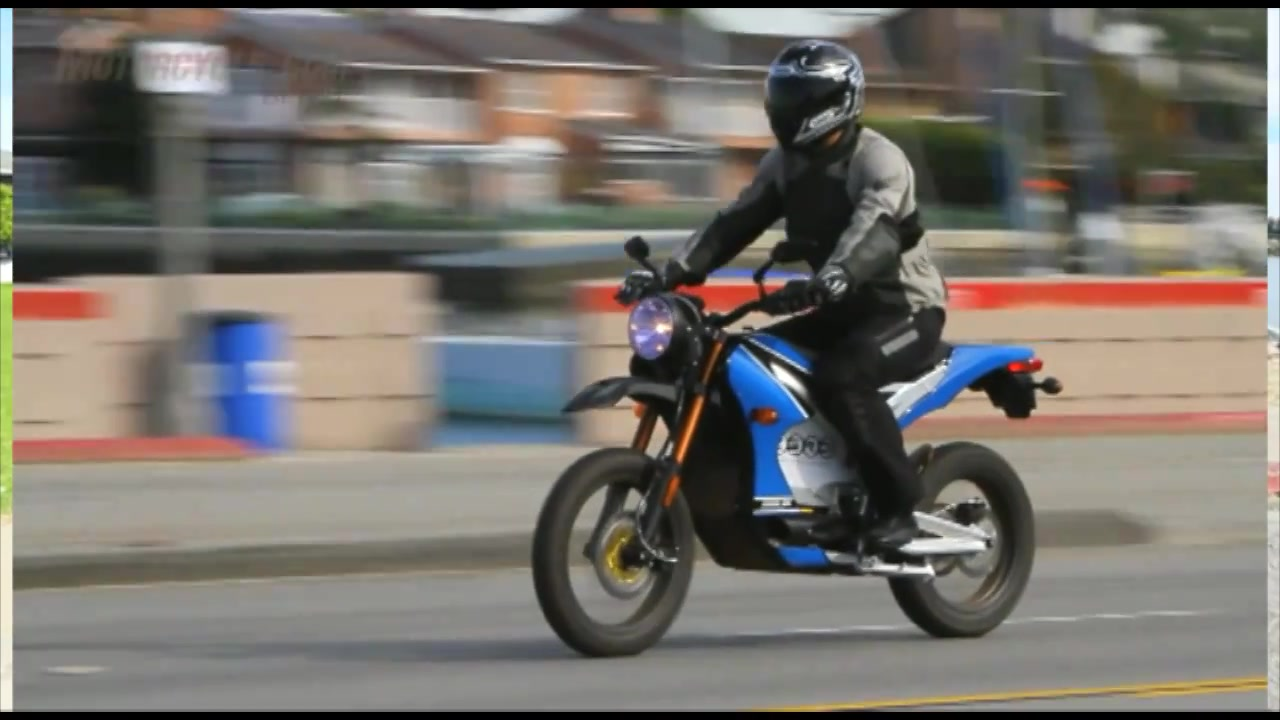motorbike: (528, 235, 1065, 664)
